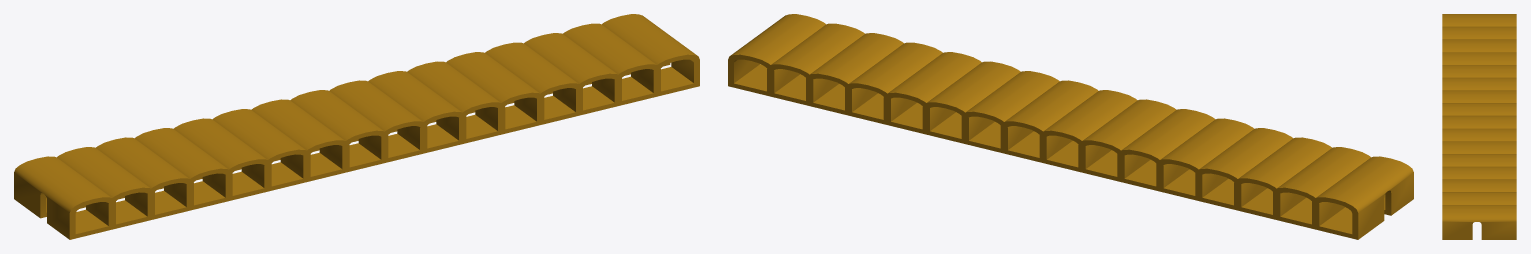
The model's file is bricks.FBX.
The picture shows the model from 3 angles, left to right: view 1: azimuth 30°, elevation 25°; view 2: azimuth 150°, elevation 25°; view 3: azimuth 270°, elevation 25°; orthographic projection. The views are drawn at different scales.
Visible parts, largest first — view 1: Box2612, Box2627, Box2616, Box2620, Box2614, Box2624, Box2626, Box2618, Box2617, Box2622, Box2625, Box2613 (+4 smaller); view 2: Box2612, Box2627, Box2615, Box2613, Box2620, Box2626, Box2618, Box2616, Box2623, Box2617, Box2622, Box2619 (+4 smaller); view 3: Box2627, Box2613, Box2614, Box2617, Box2620, Box2621, Box2624, Box2612, Box2615, Box2616, Box2618, Box2619 (+4 smaller).
Boxes of the visible parts, bbox=[...] form: Box2612: bbox=[14, 156, 115, 239]; Box2627: bbox=[602, 14, 699, 95]; Box2616: bbox=[173, 118, 271, 201]; Box2620: bbox=[329, 80, 427, 163]; Box2614: bbox=[96, 137, 193, 220]; Box2624: bbox=[485, 42, 582, 125]; Box2626: bbox=[563, 23, 660, 104]; Box2618: bbox=[251, 99, 349, 180]; Box2617: bbox=[212, 109, 310, 190]; Box2622: bbox=[407, 61, 505, 142]; Box2625: bbox=[524, 33, 621, 114]; Box2613: bbox=[57, 147, 154, 228]; Box2612: bbox=[1312, 156, 1413, 239]; Box2627: bbox=[728, 14, 825, 97]; Box2615: bbox=[1195, 128, 1293, 210]; Box2613: bbox=[1273, 147, 1370, 229]; Box2620: bbox=[1000, 80, 1098, 163]; Box2626: bbox=[767, 23, 864, 106]; Box2618: bbox=[1078, 99, 1176, 182]; Box2616: bbox=[1156, 118, 1254, 201]; Box2623: bbox=[883, 52, 981, 135]; Box2617: bbox=[1117, 109, 1215, 192]; Box2622: bbox=[922, 61, 1020, 144]; Box2619: bbox=[1039, 90, 1137, 173]; Box2627: bbox=[1442, 205, 1516, 239]; Box2613: bbox=[1442, 26, 1516, 39]; Box2614: bbox=[1442, 39, 1516, 52]; Box2617: bbox=[1442, 77, 1516, 90]; Box2620: bbox=[1442, 115, 1516, 128]; Box2621: bbox=[1442, 128, 1516, 141]; Box2624: bbox=[1442, 166, 1516, 179]; Box2612: bbox=[1442, 14, 1516, 26]; Box2615: bbox=[1442, 52, 1516, 64]; Box2616: bbox=[1442, 65, 1516, 77]; Box2618: bbox=[1442, 90, 1516, 102]; Box2619: bbox=[1442, 103, 1516, 115].
Bounding box in the file's own units: 1376 × 73.32 × 211.
